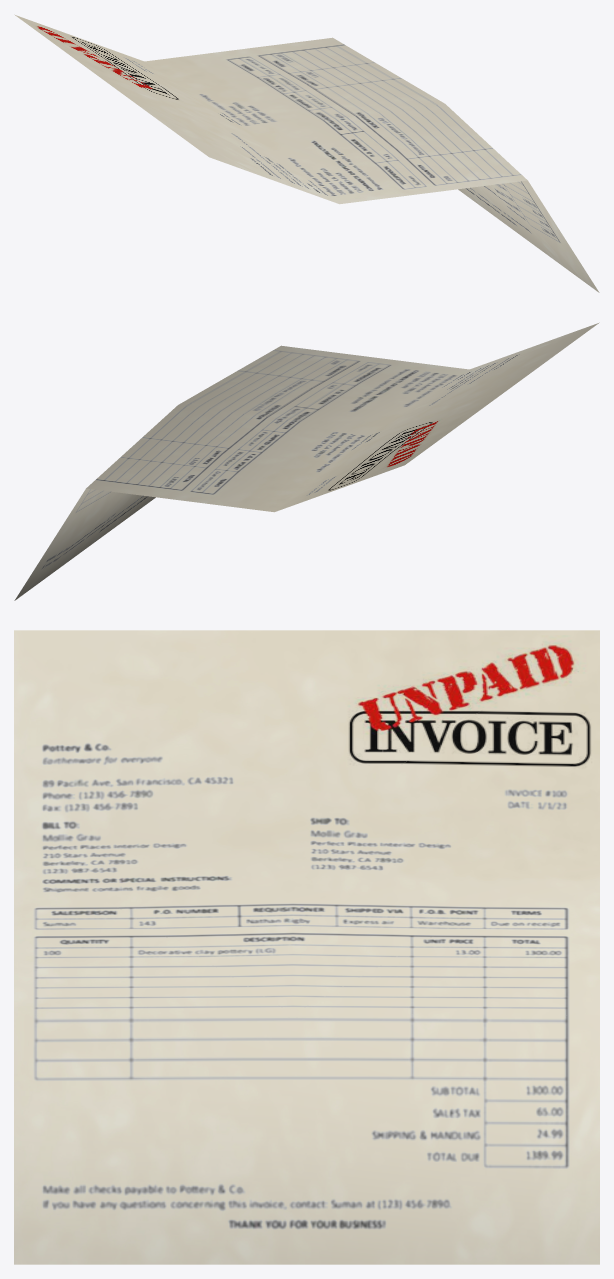
Rendered from CARTA1.fbx.
3 views of the same model, one above another, from view 1: azimuth 30°, elevation 25°; view 2: azimuth 150°, elevation 25°; view 3: azimuth 270°, elevation 25° (orthographic). The views are drawn at different scales.
Parts seen in each view (by area): view 1: CARTA1; view 2: CARTA1; view 3: CARTA1.
Part boxes in pixels (x1,y1,x2,y2): CARTA1: [14, 14, 599, 292]; CARTA1: [14, 322, 599, 600]; CARTA1: [14, 630, 599, 1264].
Bounding box in the file's own units: 31.05 × 17.58 × 26.83.
